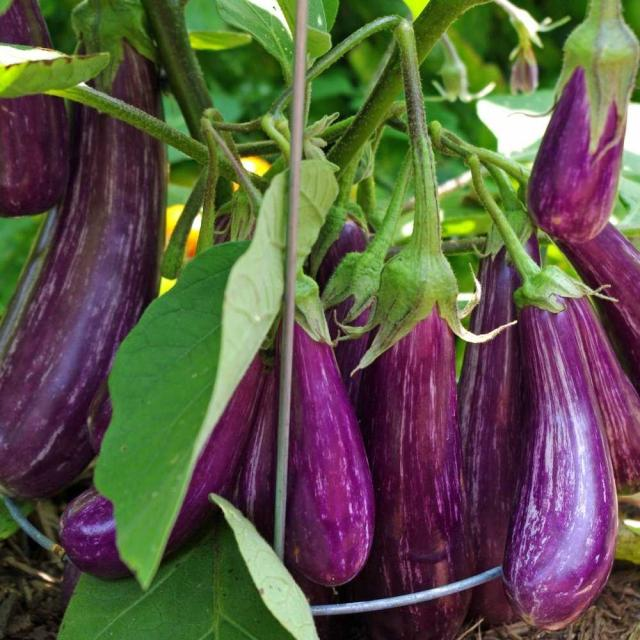Eggplant-r1Ob: (356, 24, 498, 598), (0, 105, 166, 498), (476, 175, 618, 627), (286, 274, 374, 586), (529, 0, 639, 242), (459, 326, 521, 571), (72, 0, 160, 116), (470, 226, 520, 333), (369, 594, 470, 640), (491, 168, 539, 261), (471, 580, 512, 622)
